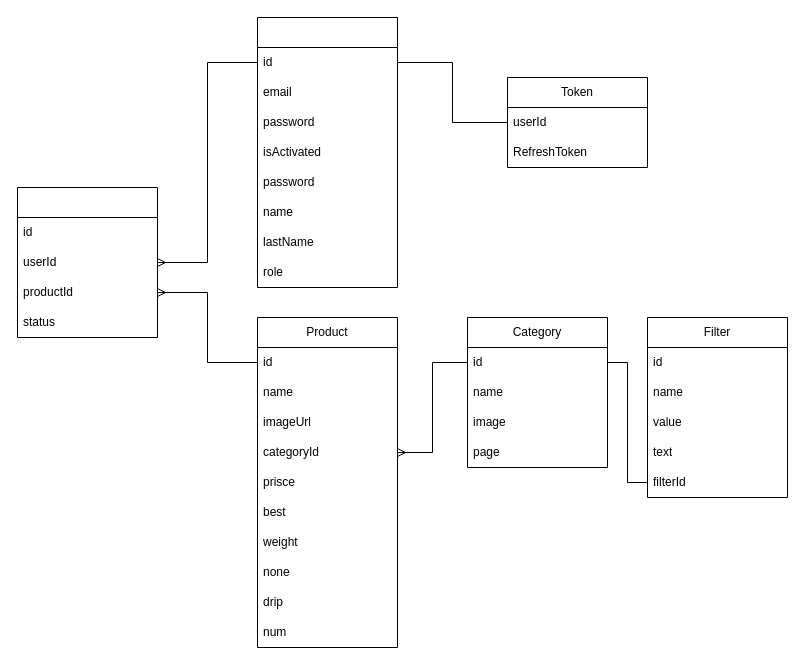
This 805x665 diagram has some shape labels left out. The box of each missing label's shape, as (x1, y1, x2, y2) in pixels:
ProductPay: (16, 186, 158, 338)
User: (256, 16, 398, 288)
